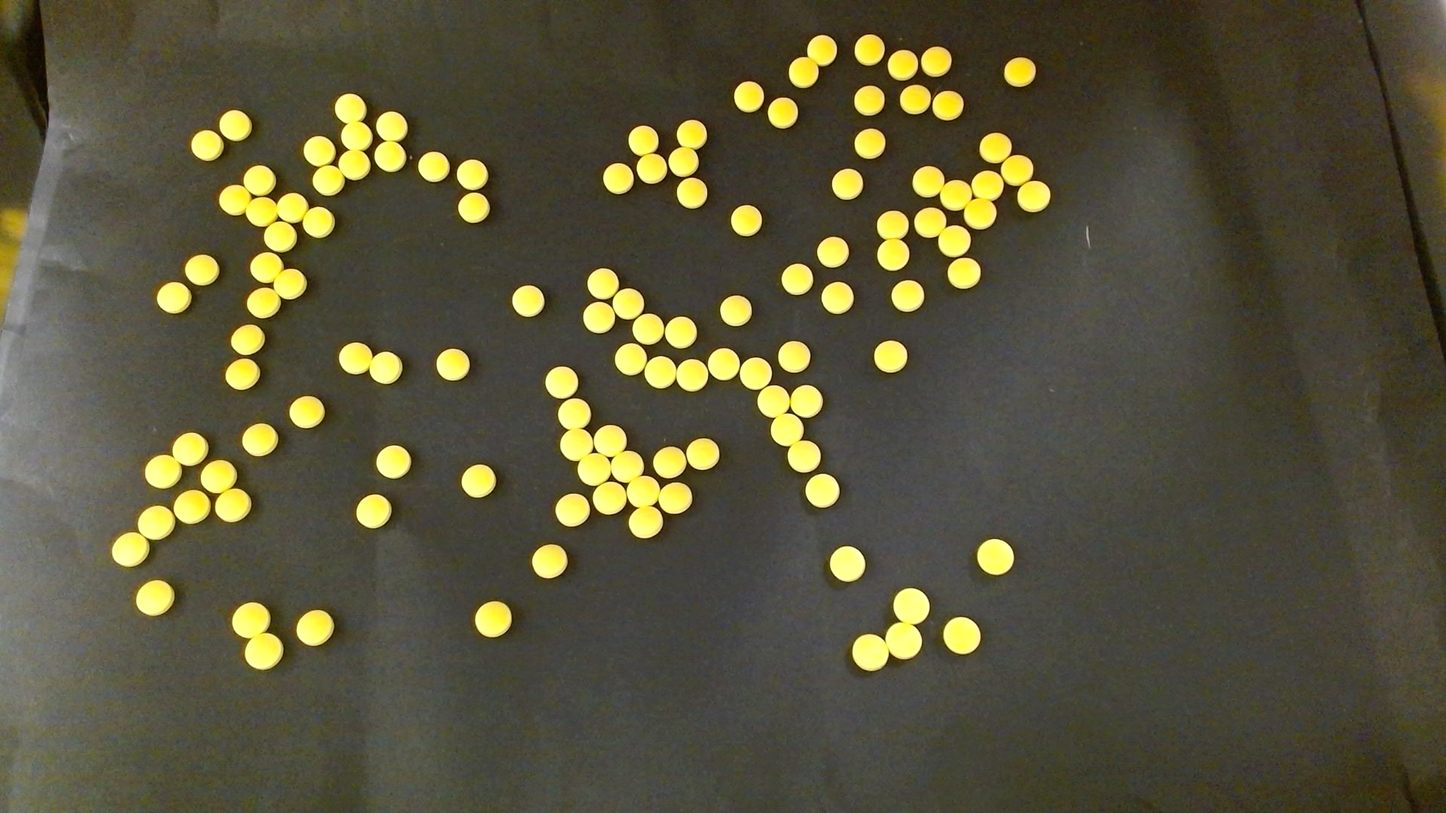Circle: (976, 535, 1016, 577), (171, 487, 212, 527), (134, 579, 175, 617), (294, 609, 335, 646), (851, 632, 889, 671), (244, 632, 283, 670), (473, 601, 512, 638), (231, 601, 270, 638), (829, 545, 866, 583), (892, 587, 930, 624), (111, 531, 149, 568), (942, 617, 980, 654), (553, 492, 592, 528), (354, 493, 392, 529), (172, 431, 210, 467), (804, 473, 841, 509), (592, 480, 628, 516), (374, 445, 411, 480), (138, 505, 175, 540), (144, 454, 181, 489), (459, 464, 497, 498), (532, 544, 568, 579), (241, 422, 278, 456), (368, 351, 406, 384), (288, 395, 325, 428), (215, 489, 252, 522), (873, 339, 908, 373), (659, 482, 693, 517), (156, 282, 192, 315), (200, 459, 236, 492), (611, 287, 646, 320), (770, 414, 805, 447), (626, 475, 661, 508), (511, 285, 545, 318), (435, 349, 470, 381), (888, 624, 920, 659), (578, 452, 611, 485), (558, 397, 591, 430), (615, 343, 648, 376), (1017, 180, 1051, 212), (185, 254, 220, 285), (225, 358, 260, 389), (229, 324, 264, 355), (729, 204, 761, 237), (629, 506, 662, 538), (457, 192, 490, 224), (947, 257, 980, 289), (778, 340, 810, 373), (560, 428, 592, 461), (219, 109, 252, 141), (273, 269, 307, 300), (456, 158, 488, 190), (720, 295, 752, 327), (676, 177, 708, 209), (781, 263, 813, 295), (877, 238, 909, 270), (545, 365, 577, 397), (892, 279, 923, 312), (676, 358, 707, 391), (338, 342, 371, 373), (250, 251, 283, 282), (582, 301, 615, 332), (593, 424, 626, 455), (276, 193, 309, 224), (246, 288, 280, 318), (1003, 56, 1035, 87), (915, 206, 947, 237), (818, 236, 850, 267), (791, 384, 822, 416), (788, 440, 820, 471), (264, 220, 296, 251), (653, 446, 685, 477), (963, 197, 995, 228), (338, 148, 370, 179), (218, 184, 250, 215), (374, 140, 406, 171), (912, 165, 944, 196), (831, 168, 862, 199), (687, 438, 718, 469), (612, 449, 643, 480), (822, 282, 853, 313), (644, 357, 675, 388), (855, 127, 886, 158), (665, 317, 696, 348), (243, 164, 274, 195), (854, 84, 885, 115), (758, 385, 789, 416), (938, 224, 970, 254), (1001, 154, 1033, 184), (340, 120, 372, 150), (939, 179, 971, 209), (334, 93, 366, 123), (302, 206, 333, 236), (707, 349, 738, 379), (920, 46, 951, 76), (602, 163, 633, 193), (191, 130, 222, 160), (740, 357, 770, 388), (418, 151, 449, 181), (587, 267, 618, 297), (303, 136, 334, 166), (899, 84, 930, 114), (980, 132, 1011, 162), (633, 313, 663, 344), (313, 165, 343, 195), (636, 153, 666, 183), (877, 210, 908, 239), (734, 80, 763, 111), (376, 111, 407, 140), (854, 34, 883, 65), (934, 90, 963, 120), (247, 196, 277, 225), (767, 98, 797, 127), (627, 125, 657, 154), (676, 119, 706, 148), (668, 146, 697, 175), (888, 50, 917, 79), (807, 35, 836, 64), (972, 169, 1002, 197), (790, 56, 817, 86)
